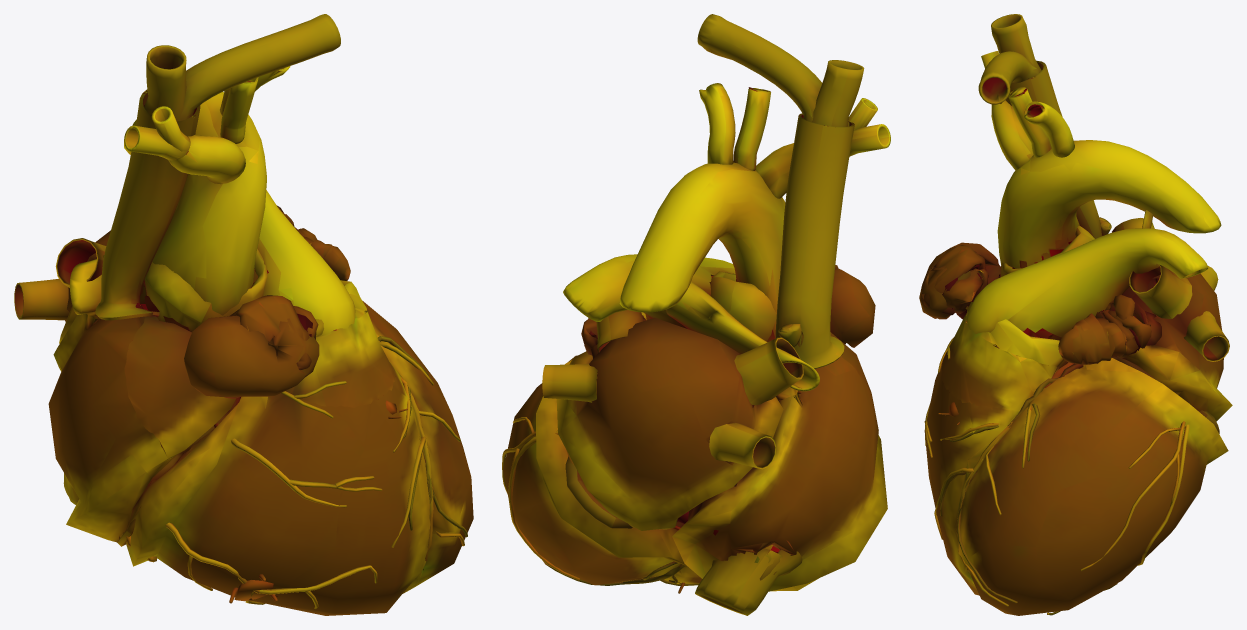
The model's file is srce-telefon.glb.
The picture shows the model from 3 angles, left to right: view 1: azimuth 30°, elevation 25°; view 2: azimuth 150°, elevation 25°; view 3: azimuth 270°, elevation 25°; orthographic projection. The views are drawn at different scales.
Visible parts, largest first — view 1: Right ventricle, Right atrium, Aorta, Right auricle (lastno), Superior vena cava, Right auricle, Left ventricle, Pulmonary trunk and left pulmonary artery, Left brachiocephalic vein, Conus arteriosus, Right coronary artery, Root of aorta (+12 smaller); view 2: Left atrium, Right atrium, Aorta, Left ventricle, Superior vena cava, Left brachiocephalic vein, Inferior vena cava (thoracic part), Pulmonary trunk and left pulmonary artery, Right pulmonary artery, Right superior pulmonary vein, Right auricle (lastno), Root of aorta (+12 smaller); view 3: Left ventricle, Aorta, Pulmonary trunk and left pulmonary artery, Right ventricle, Left atrium, Conus arteriosus, Left auricle, Right auricle (lastno), Left superior pulmonary vein, Root of pulmonary trunk, Left brachiocephalic vein, Brachiocephalic trunk (+11 smaller).
Boxes of the visible parts, left/top/right/bottom form: Right ventricle: left=120, top=361, right=430, bottom=615; Right atrium: left=48, top=312, right=175, bottom=542; Aorta: left=124, top=92, right=266, bottom=330; Right auricle (lastno): left=184, top=295, right=319, bottom=398; Superior vena cava: left=95, top=89, right=200, bottom=320; Right auricle: left=124, top=316, right=235, bottom=458; Left ventricle: left=362, top=301, right=473, bottom=586; Pulmonary trunk and left pulmonary artery: left=252, top=190, right=355, bottom=337; Left brachiocephalic vein: left=180, top=14, right=340, bottom=120; Conus arteriosus: left=285, top=310, right=395, bottom=407; Right coronary artery: left=117, top=381, right=382, bottom=608; Root of aorta: left=143, top=249, right=267, bottom=332; Left atrium: left=556, top=318, right=783, bottom=530; Right atrium: left=672, top=356, right=887, bottom=591; Aorta: left=619, top=162, right=785, bottom=341; Left ventricle: left=503, top=355, right=686, bottom=585; Superior vena cava: left=775, top=113, right=854, bottom=368; Left brachiocephalic vein: left=697, top=14, right=822, bottom=121; Inferior vena cava (thoracic part): left=695, top=544, right=802, bottom=615; Pulmonary trunk and left pulmonary artery: left=563, top=254, right=735, bottom=328; Right pulmonary artery: left=666, top=282, right=819, bottom=391; Right superior pulmonary vein: left=734, top=337, right=803, bottom=405; Right auricle (lastno): left=830, top=265, right=875, bottom=347; Root of aorta: left=710, top=271, right=776, bottom=341; Left ventricle: left=958, top=358, right=1228, bottom=615; Aorta: left=997, top=140, right=1221, bottom=268; Pulmonary trunk and left pulmonary artery: left=966, top=228, right=1208, bottom=340; Right ventricle: left=924, top=361, right=1018, bottom=595; Left atrium: left=1122, top=273, right=1232, bottom=421; Conus arteriosus: left=941, top=314, right=1060, bottom=411; Left auricle: left=1058, top=294, right=1161, bottom=364; Right auricle (lastno): left=919, top=242, right=1000, bottom=319; Left superior pulmonary vein: left=1129, top=264, right=1192, bottom=318; Root of pulmonary trunk: left=965, top=300, right=1067, bottom=367; Left brachiocephalic vein: left=978, top=51, right=1038, bottom=104; Brachiocephalic trunk: left=991, top=100, right=1033, bottom=170.
Bounding box in the file's own units: 0.1303 × 0.2001 × 0.1134.
Materials: 1 (1 with a texture image).
